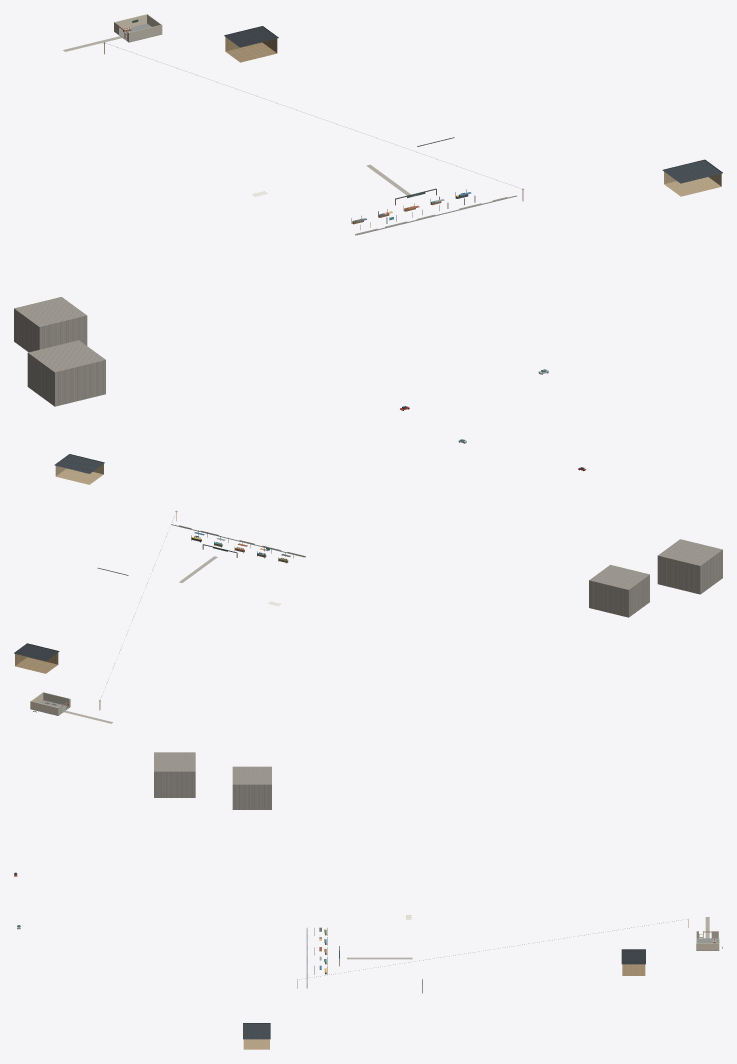
The model's file is cell_0_-3_full.gltf.
The picture shows the model from 3 angles, top to bottom: view 1: azimuth 30°, elevation 25°; view 2: azimuth 150°, elevation 25°; view 3: azimuth 270°, elevation 25°; orthographic projection. The views are drawn at different scales.
Visible parts, largest first — view 1: MASS_YABA_017, YABA_MIXED_USE_SHOP_BLOCKOUT_01, YABA_MIXED_USE_SHOP_BLOCKOUT_02_ROOF, YABA_MIXED_USE_SHOP_BLOCKOUT_02, YABA_MIXED_USE_SHOP_BLOCKOUT_01_ROOF, FOOD_FRONT_WALL_BETWEEN_WINDOW_AND_DOOR; view 2: MASS_YABA_017, YABA_MIXED_USE_SHOP_BLOCKOUT_01, YABA_MIXED_USE_SHOP_BLOCKOUT_02_ROOF, YABA_MIXED_USE_SHOP_BLOCKOUT_02, YABA_MIXED_USE_SHOP_BLOCKOUT_01_ROOF; view 3: MASS_YABA_017.
Boxes of the visible parts, bbox=[...] form: MASS_YABA_017: bbox=[14, 297, 105, 406]; YABA_MIXED_USE_SHOP_BLOCKOUT_01: bbox=[225, 37, 277, 62]; YABA_MIXED_USE_SHOP_BLOCKOUT_02_ROOF: bbox=[662, 159, 722, 183]; YABA_MIXED_USE_SHOP_BLOCKOUT_02: bbox=[664, 172, 721, 196]; YABA_MIXED_USE_SHOP_BLOCKOUT_01_ROOF: bbox=[224, 26, 278, 47]; FOOD_FRONT_WALL_BETWEEN_WINDOW_AND_DOOR: bbox=[114, 22, 507, 235]; MASS_YABA_017: bbox=[589, 539, 722, 617]; YABA_MIXED_USE_SHOP_BLOCKOUT_01: bbox=[15, 653, 58, 673]; YABA_MIXED_USE_SHOP_BLOCKOUT_02_ROOF: bbox=[54, 454, 104, 473]; YABA_MIXED_USE_SHOP_BLOCKOUT_02: bbox=[55, 464, 103, 484]; YABA_MIXED_USE_SHOP_BLOCKOUT_01_ROOF: bbox=[14, 643, 59, 661]; MASS_YABA_017: bbox=[154, 752, 271, 809].
Size of what is drawn, in the model's own units: 391 by 17.84 by 432.
Materials: 39 (5 with a texture image).
